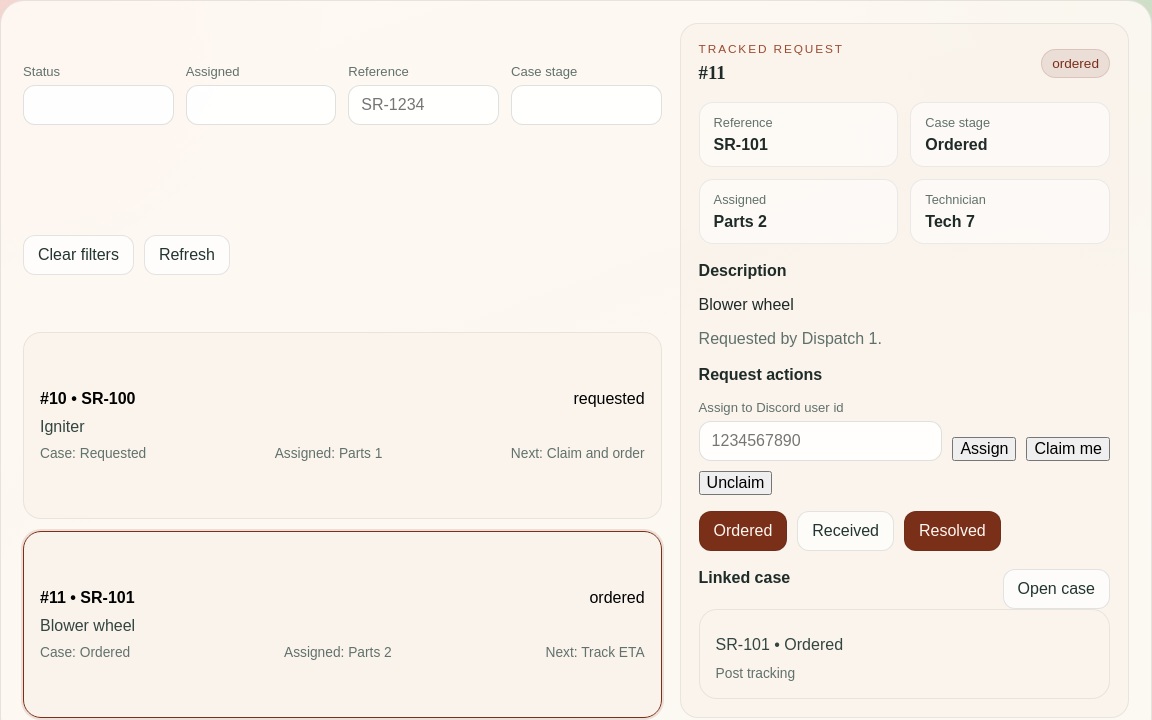
Test: RequestsView › filters requests and renders linked case detail
Type "ordered" into the field labelled "Status" at (98, 105), box [23,85,174,125]
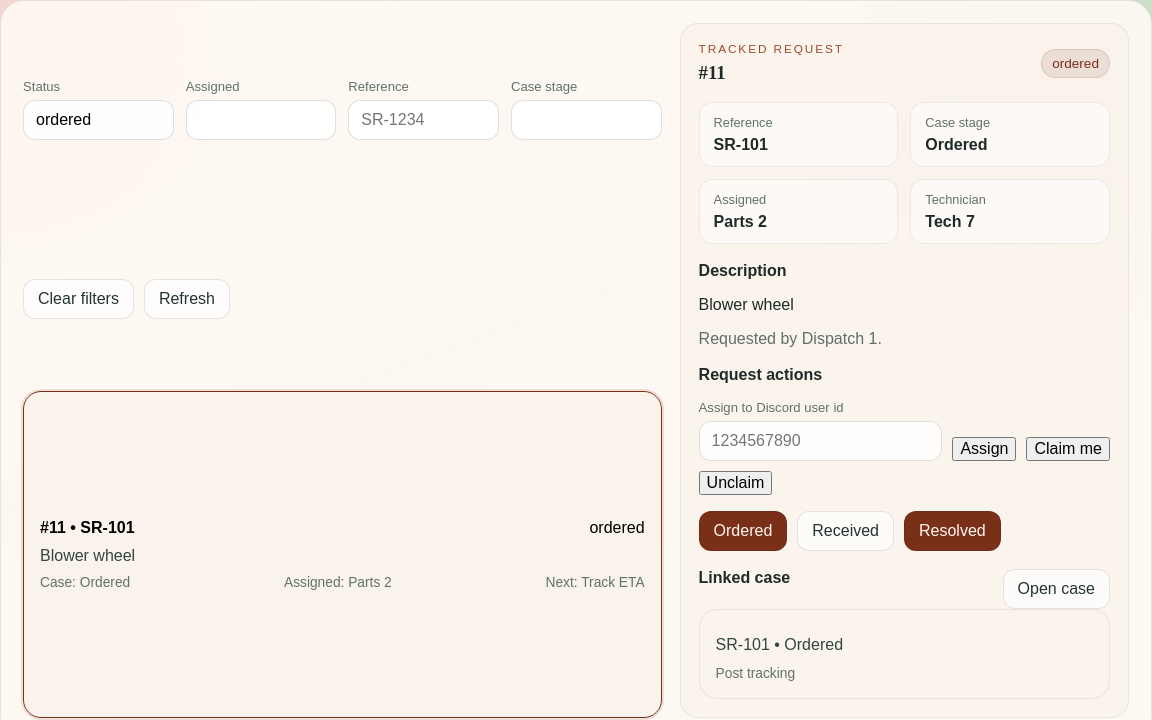
Expected: the text "#11 • SR-101" is shown, [40,519,135,537]
Now the button "#10 • SR-100" is gone
